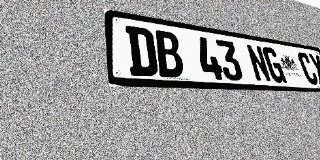3: (215, 39, 244, 81)
4: (195, 36, 225, 80)
B: (153, 30, 185, 78)
C: (296, 52, 320, 85)
D: (125, 25, 159, 77)
G: (261, 46, 287, 83)
N: (245, 44, 272, 83)
X: (308, 53, 320, 85)
